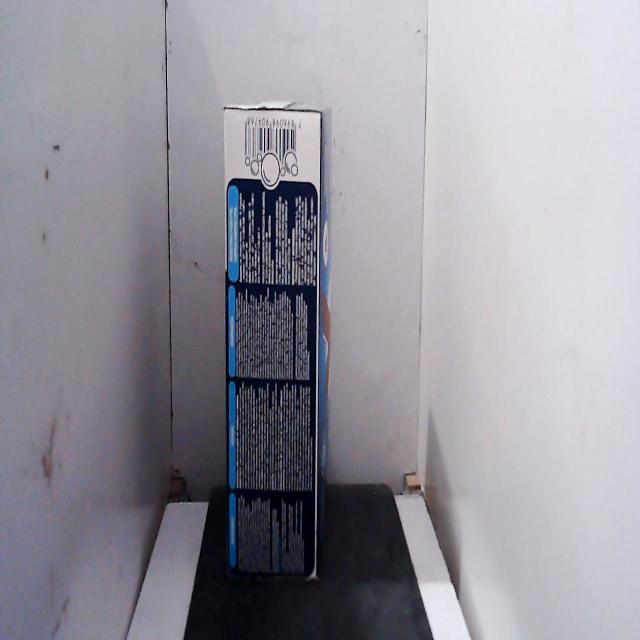papel: (216, 81, 339, 602)
